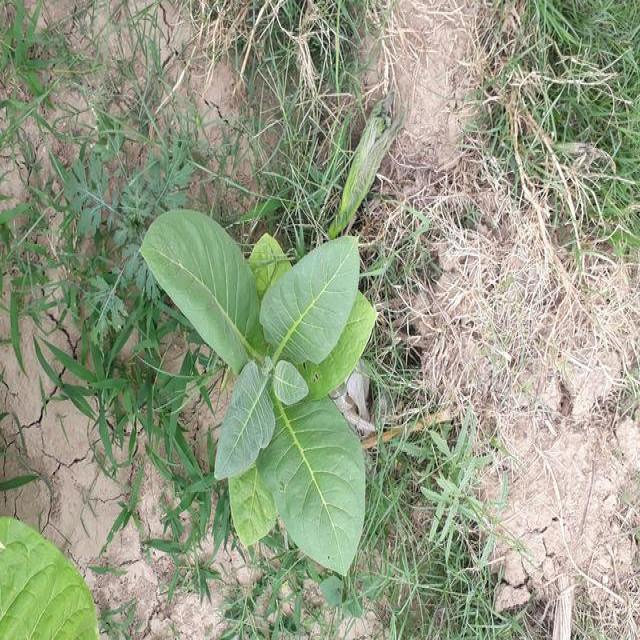crop: (138, 207, 374, 580)
